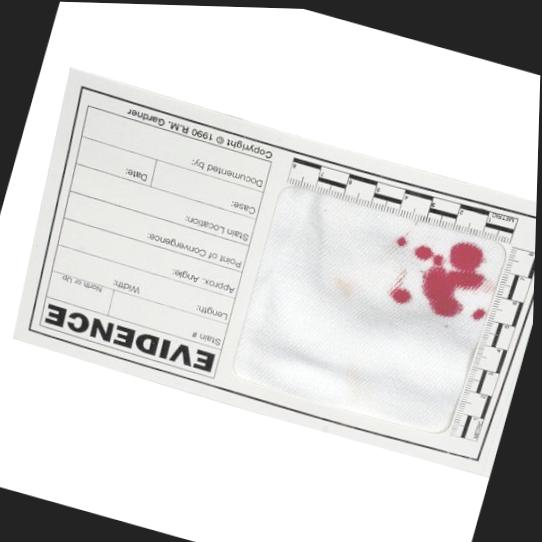Fire: (416, 239, 487, 315), (391, 284, 412, 301), (474, 306, 487, 317), (398, 234, 408, 244)
